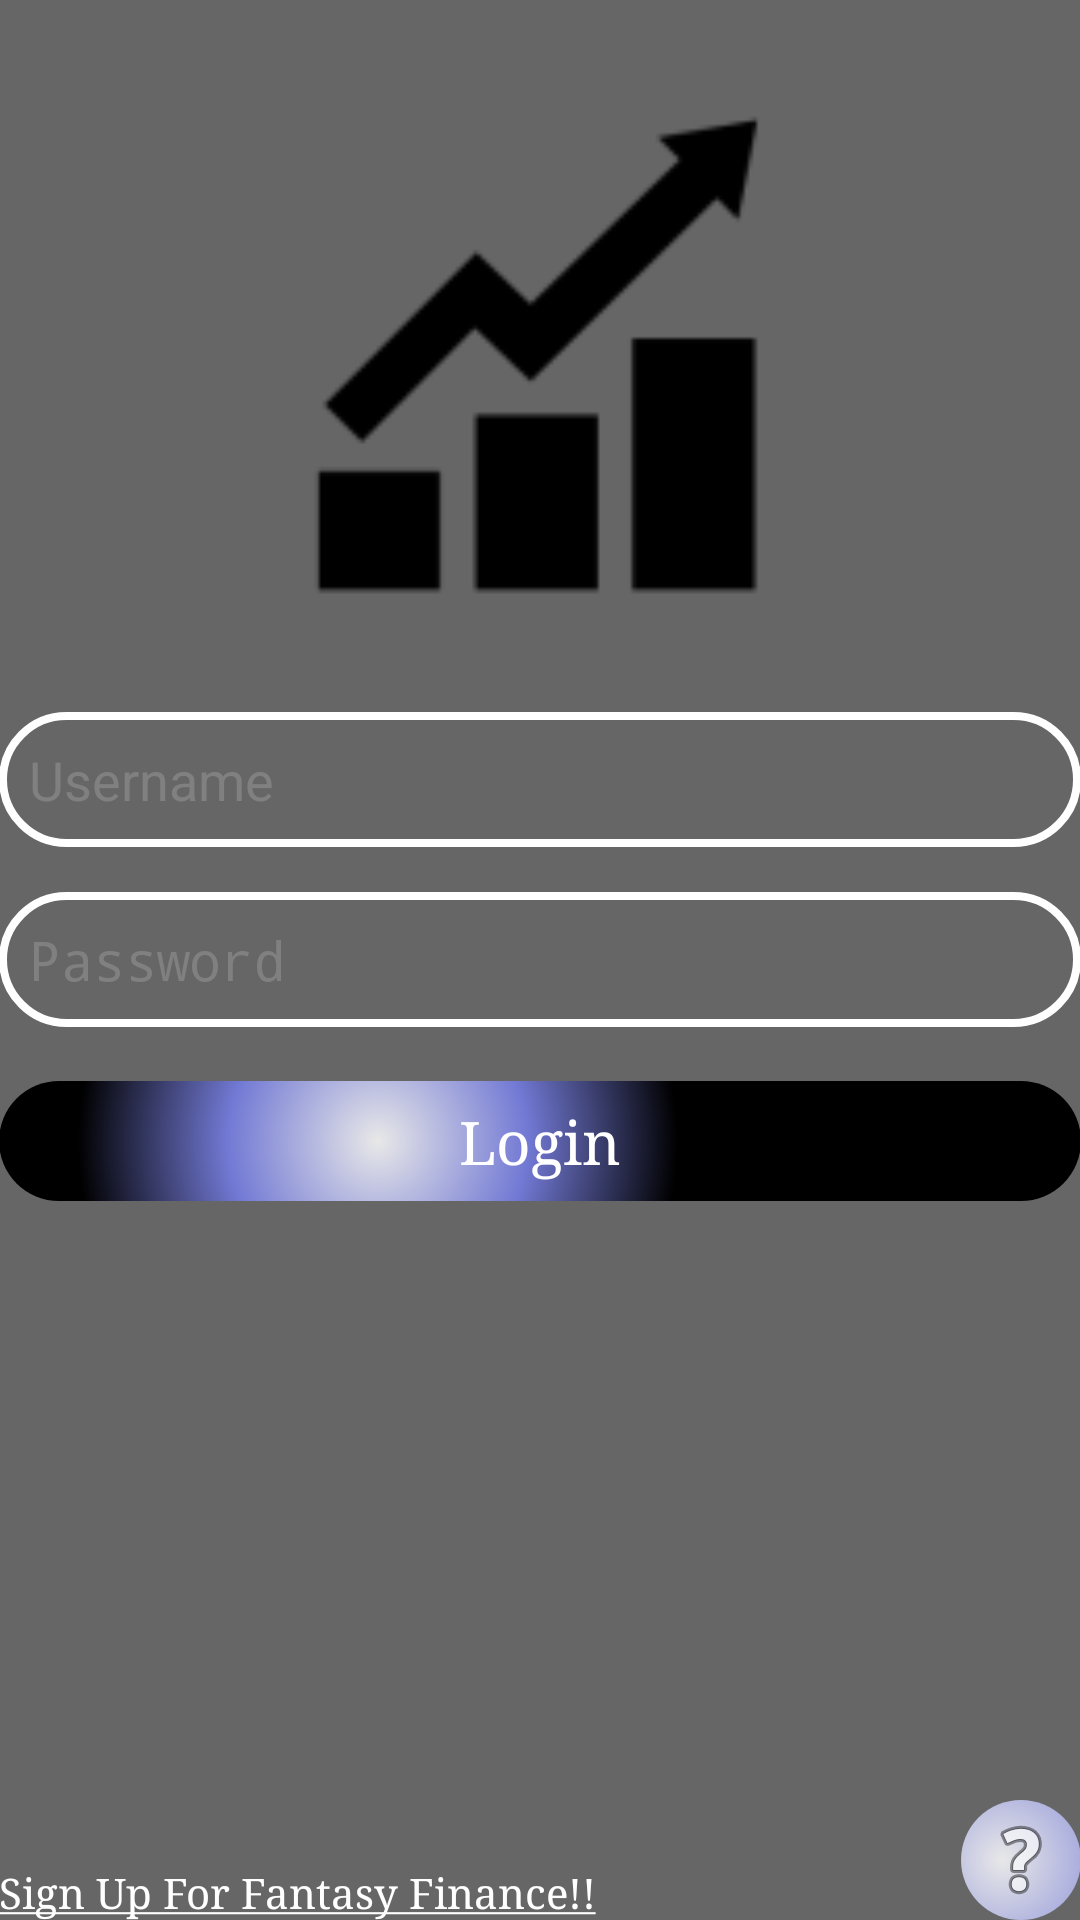

Named icons in this screenshot (1080px×1920px) and their centers, (x=x, y=y):
help: (x=1020, y=1860)
